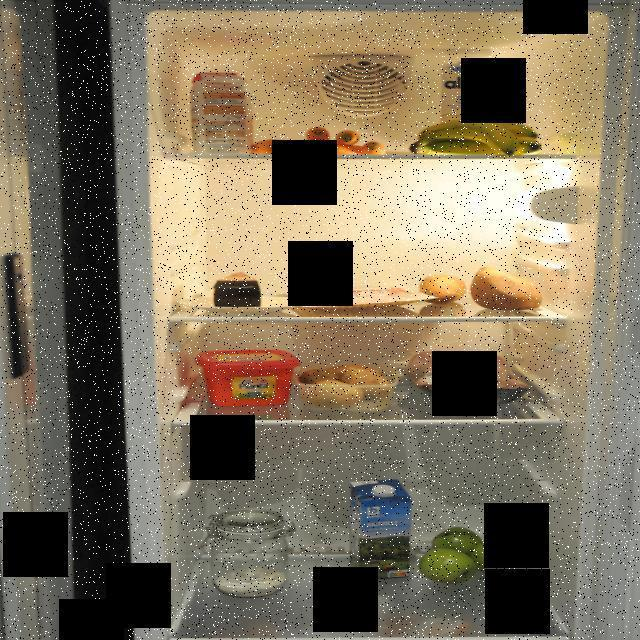Apple: (418, 525, 526, 586)
Banana: (409, 120, 544, 158)
Butter stick/block: (194, 348, 300, 408)
Carrot: (252, 123, 394, 158)
Cheese: (208, 268, 264, 310)
Chicken: (394, 348, 532, 408)
Flour: (203, 506, 295, 600)
Ham: (282, 285, 439, 310)
Milk carton/jug: (346, 476, 414, 581), (440, 58, 498, 148)
Potato: (286, 360, 396, 408)
Sugar: (190, 71, 256, 154)
Sweet Potato: (470, 263, 544, 313), (416, 274, 466, 304)
